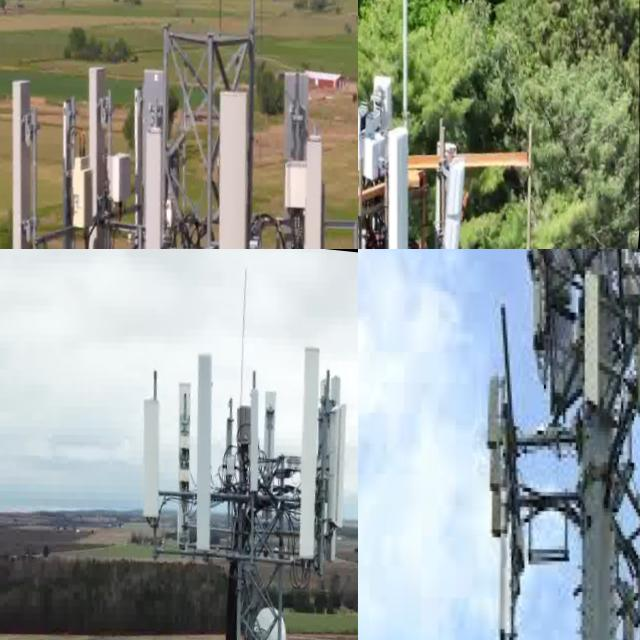GSM Antenna: (198, 74, 283, 249), (72, 54, 138, 249), (0, 67, 69, 249), (285, 337, 343, 552), (183, 340, 234, 552), (123, 110, 199, 249), (374, 106, 436, 249), (291, 118, 346, 249), (570, 252, 618, 401), (165, 374, 208, 514), (320, 391, 358, 534), (135, 387, 176, 515), (437, 137, 482, 249), (255, 378, 292, 487), (497, 526, 530, 638), (242, 381, 270, 488), (358, 133, 380, 249), (485, 364, 514, 448), (495, 482, 521, 524), (626, 577, 640, 640), (631, 317, 640, 393)
Microwave Antenna: (248, 585, 302, 640)
